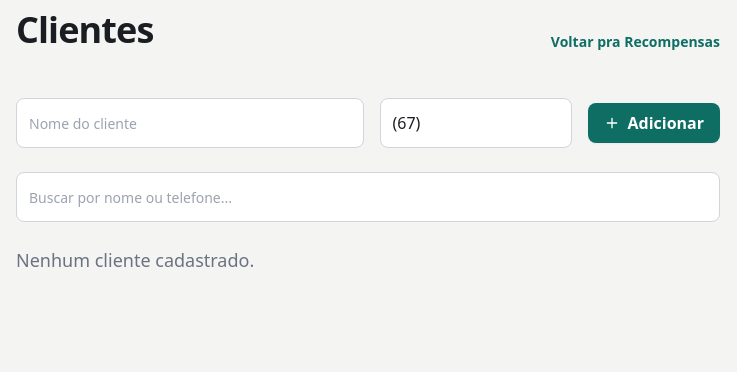
Test case: ClientesPage › creates a customer, masking the phone as it is typed
Expected: the text "Nenhum cliente cadastrado." is shown, left=16, top=248, right=254, bottom=272
Type "Ana" into the field with placeholder "Nome do cliente" at (190, 123), box left=16, top=98, right=364, bottom=148
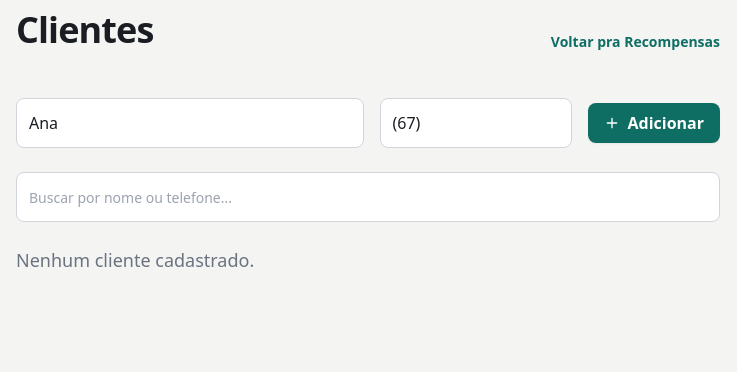
Replace the text in the 2nd field with placeholder "Telefone" with "67999990000" at (476, 123), box left=380, top=98, right=572, bottom=148
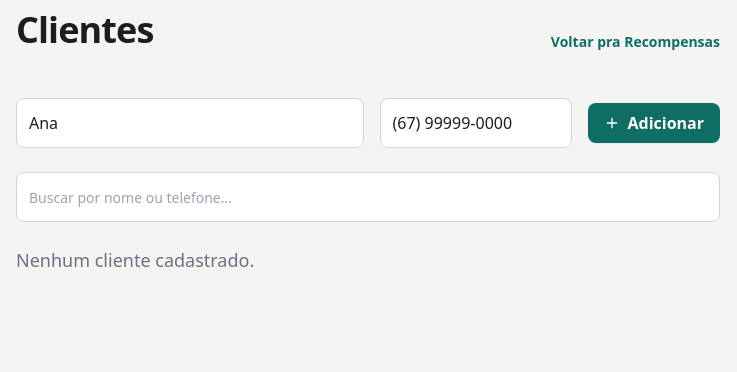
Result: the 2nd field with placeholder "Telefone" holds "(67) 99999-0000" at left=380, top=98, right=572, bottom=148
Click the button "Adicionar" at (654, 123), box left=588, top=103, right=720, bottom=143
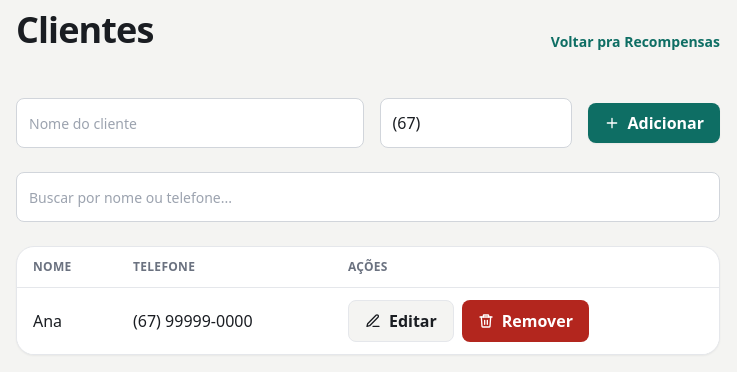
Result: the text "Ana" is shown at left=17, top=288, right=117, bottom=354
